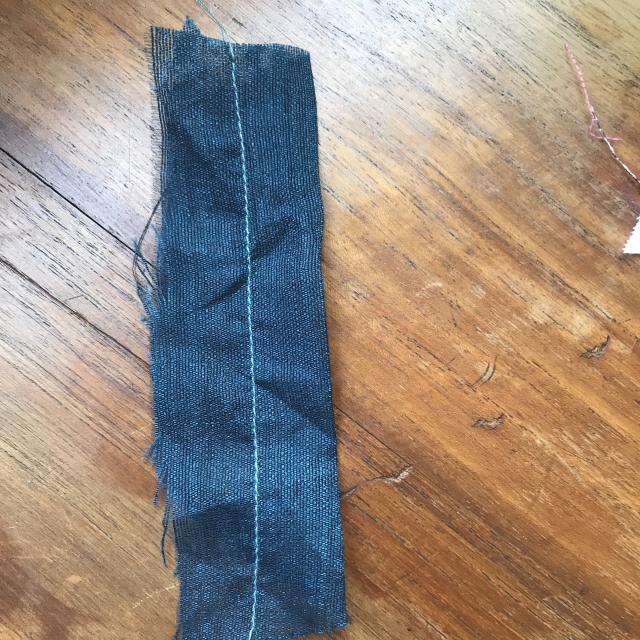good: (240, 226, 272, 479)
